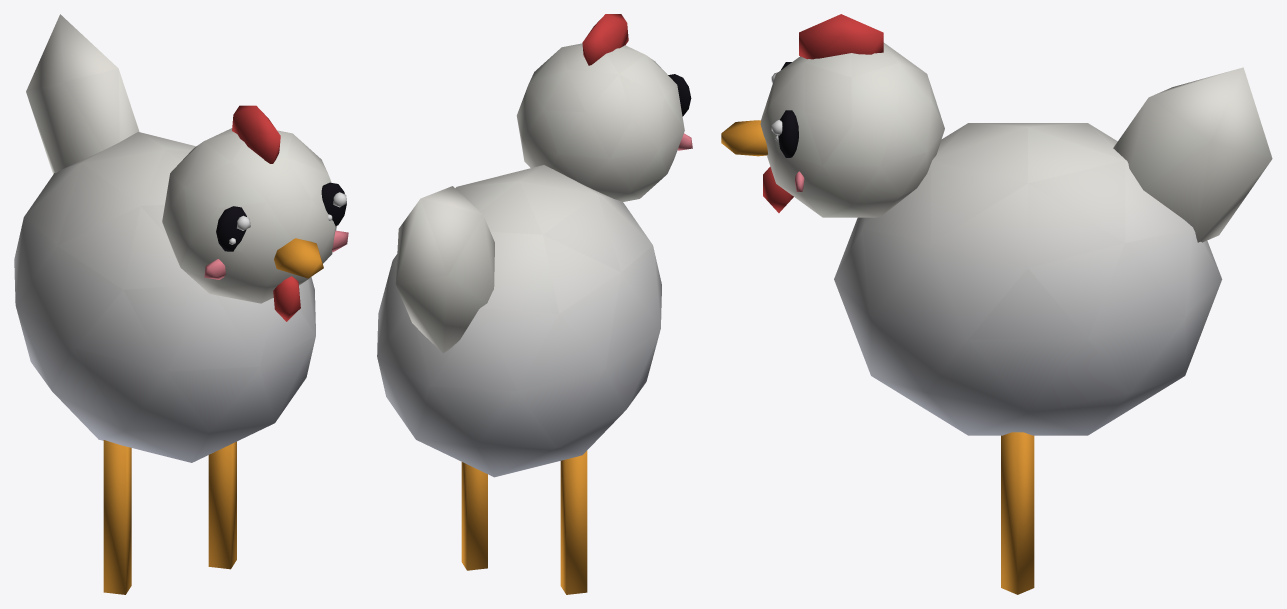
The model's file is chicken.glb.
The picture shows the model from 3 angles, left to right: view 1: azimuth 30°, elevation 25°; view 2: azimuth 150°, elevation 25°; view 3: azimuth 270°, elevation 25°; orthographic projection. The views are drawn at different scales.
Visible parts, largest first — view 1: Body, HeadMesh, LegFLMesh, LegFRMesh; view 2: Body, HeadMesh, LegFLMesh, LegFRMesh; view 3: Body, HeadMesh, LegFRMesh.
Part boxes in pixels (x1,y1,x2,y2): Body: [14, 14, 315, 462]; HeadMesh: [162, 105, 348, 321]; LegFLMesh: [103, 440, 131, 594]; LegFRMesh: [208, 441, 236, 569]; Body: [377, 165, 661, 477]; HeadMesh: [516, 14, 692, 201]; LegFLMesh: [560, 450, 587, 594]; LegFRMesh: [461, 462, 487, 570]; Body: [834, 67, 1272, 435]; HeadMesh: [721, 14, 944, 217]; LegFRMesh: [1001, 432, 1034, 594].
Bounding box in the file's own units: 0.2749 × 0.582 × 0.5308.
